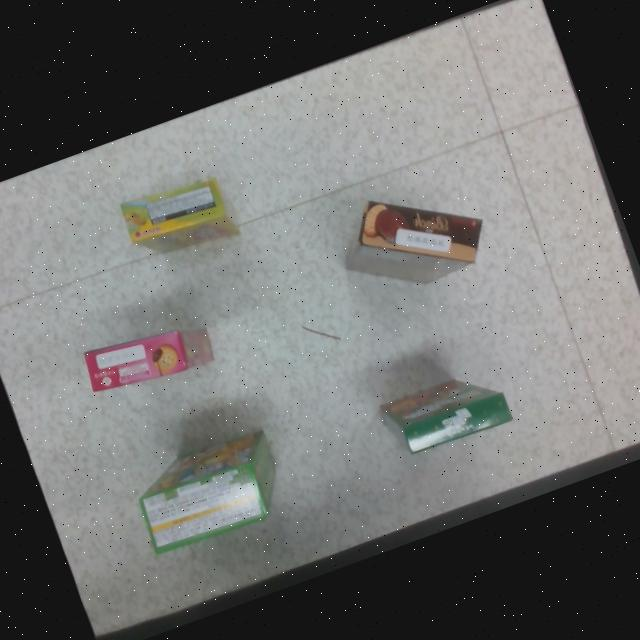box: (138, 431, 275, 555), (346, 201, 482, 283), (380, 380, 513, 454), (120, 176, 238, 251), (82, 329, 212, 391)
